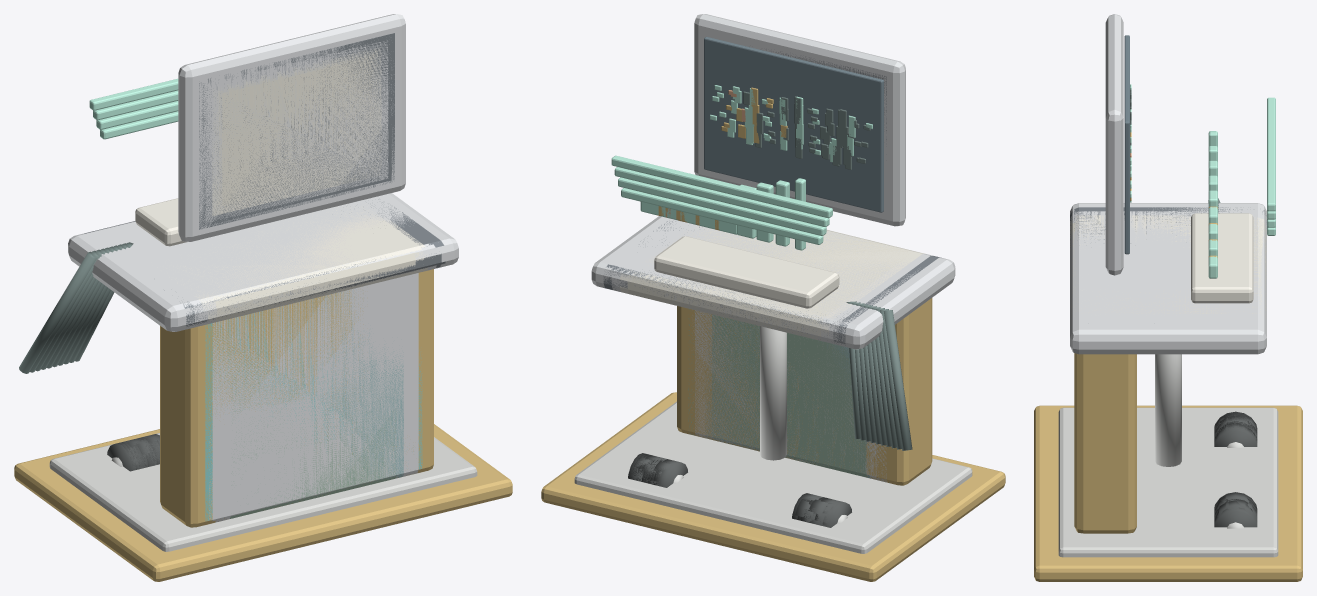
File: Gear19.fbx
The picture shows the model from 3 angles, left to right: view 1: azimuth 30°, elevation 25°; view 2: azimuth 150°, elevation 25°; view 3: azimuth 270°, elevation 25°; orthographic projection. The views are drawn at different scales.
Visible parts, largest first — view 1: Gear19_V6_Platinum, Gear19_V10_Gold, Gear19_V10_Platinum, Gear19_V1_Ivory, Gear19_V5_Platinum, Gear19_V4_Linen, Gear19_V7_Graphite, Gear19_V9_Gold, Gear19_V7_Platinum, Gear19_V10_Chrome, Gear19_V3_Blue, Gear19_V9_Chrome (+18 smaller); view 2: Gear19_V10_Gold, Gear19_V10_Platinum, Gear19_V1_Sage, Gear19_V10_Glass, Gear19_V10_Chrome, Gear19_V7_Chrome, Gear19_V2_Ivory, Gear19_V5_Platinum, Gear19_V9_Chrome, Gear19_V4_Linen, Gear19_V5_Glass, Gear19_V5_Chrome (+43 smaller); view 3: Gear19_V10_Gold, Gear19_V10_Platinum, Gear19_V7_Chrome, Gear19_V6_Platinum, Gear19_V8_Chrome, Gear19_V9_Gold, Gear19_V10_Chrome, Gear19_V10_Linen, Gear19_V1_Chrome, Gear19_V9_Platinum, Gear19_V4_Chrome, Gear19_V10_Glow (+13 smaller).
Part boxes in pixels (bbox=[...]): Gear19_V6_Platinum: bbox=[94, 40, 436, 521]; Gear19_V10_Gold: bbox=[14, 269, 512, 581]; Gear19_V10_Platinum: bbox=[68, 14, 458, 331]; Gear19_V1_Ivory: bbox=[213, 57, 415, 322]; Gear19_V5_Platinum: bbox=[127, 44, 429, 522]; Gear19_V4_Linen: bbox=[157, 47, 427, 316]; Gear19_V7_Graphite: bbox=[188, 37, 441, 317]; Gear19_V9_Gold: bbox=[23, 329, 505, 580]; Gear19_V7_Platinum: bbox=[209, 273, 418, 519]; Gear19_V10_Chrome: bbox=[49, 437, 477, 551]; Gear19_V3_Blue: bbox=[272, 305, 403, 485]; Gear19_V9_Chrome: bbox=[58, 433, 469, 549]; Gear19_V10_Gold: bbox=[541, 298, 1005, 581]; Gear19_V10_Platinum: bbox=[591, 14, 955, 349]; Gear19_V1_Sage: bbox=[712, 314, 866, 477]; Gear19_V10_Glass: bbox=[704, 36, 883, 212]; Gear19_V10_Chrome: bbox=[574, 401, 972, 553]; Gear19_V7_Chrome: bbox=[589, 419, 957, 548]; Gear19_V2_Ivory: bbox=[627, 225, 912, 339]; Gear19_V5_Platinum: bbox=[616, 225, 929, 480]; Gear19_V9_Chrome: bbox=[581, 408, 963, 552]; Gear19_V4_Linen: bbox=[619, 229, 925, 340]; Gear19_V5_Glass: bbox=[718, 68, 867, 198]; Gear19_V5_Chrome: bbox=[598, 424, 943, 548]; Gear19_V10_Gold: bbox=[1034, 353, 1302, 581]; Gear19_V10_Platinum: bbox=[1070, 14, 1266, 354]; Gear19_V7_Chrome: bbox=[1058, 413, 1274, 544]; Gear19_V6_Platinum: bbox=[1070, 211, 1266, 327]; Gear19_V8_Chrome: bbox=[1058, 411, 1277, 546]; Gear19_V9_Gold: bbox=[1034, 408, 1302, 567]; Gear19_V10_Chrome: bbox=[1058, 407, 1278, 557]; Gear19_V10_Linen: bbox=[1191, 213, 1253, 303]; Gear19_V1_Chrome: bbox=[1155, 354, 1244, 466]; Gear19_V9_Platinum: bbox=[1070, 205, 1266, 334]; Gear19_V4_Chrome: bbox=[1058, 419, 1277, 539]; Gear19_V10_Glow: bbox=[1130, 84, 1275, 278].
Bounding box in the file's own units: 90.73 × 108 × 60.
